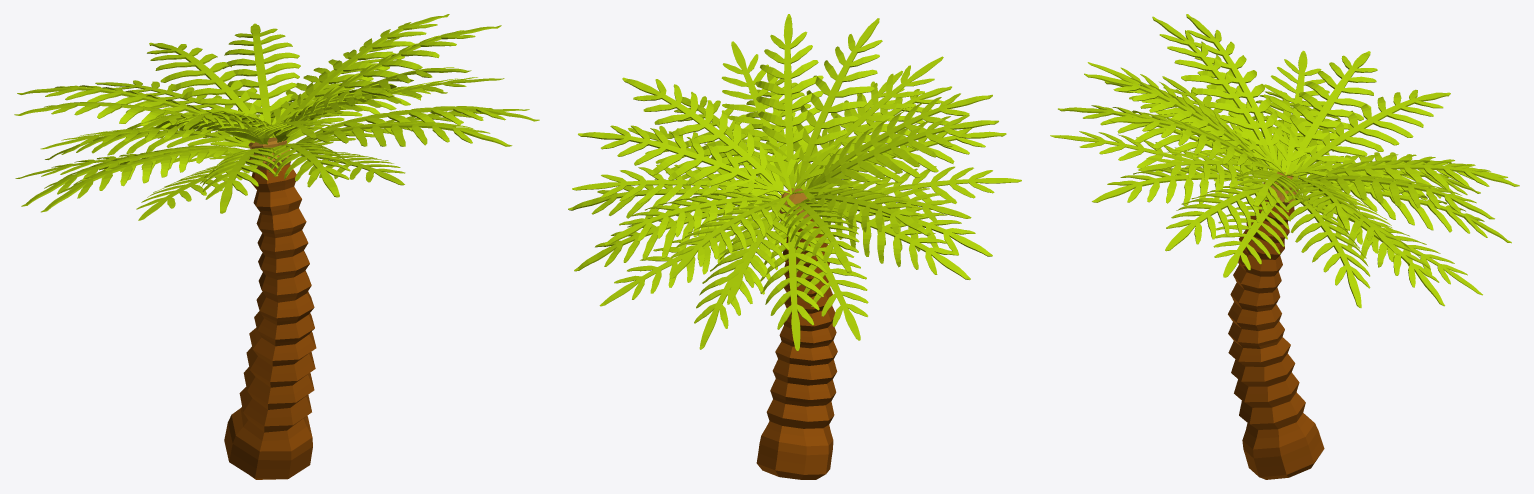
The model's file is palmier trees.fbx.
The picture shows the model from 3 angles, left to right: view 1: azimuth 30°, elevation 25°; view 2: azimuth 150°, elevation 25°; view 3: azimuth 270°, elevation 25°; orthographic projection. The views are drawn at different scales.
Visible parts, largest first — view 1: palmier; view 2: palmier; view 3: palmier.
Part boxes in pixels (left/top/right/bottom): palmier: left=14, top=14, right=539, bottom=479; palmier: left=568, top=14, right=1021, bottom=479; palmier: left=1050, top=14, right=1519, bottom=479.
Bounding box in the file's own units: 1313 × 1243 × 1306.
